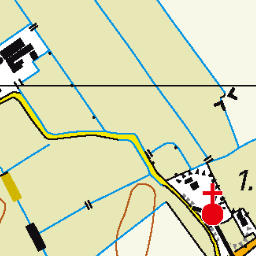church: (200, 181, 226, 228)
